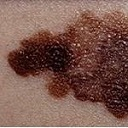Melanoma: (16, 21, 128, 110)
